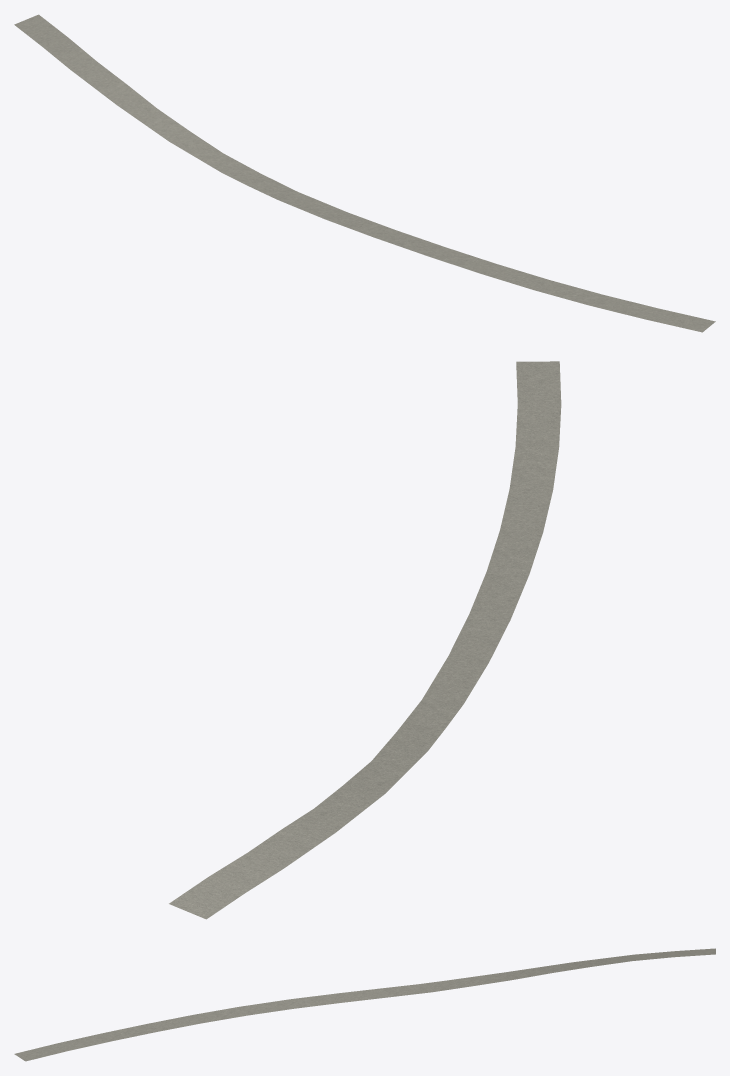
The model's file is path_07.gltf.
3 renders of one model, top to bottom at view 1: azimuth 30°, elevation 25°; view 2: azimuth 150°, elevation 25°; view 3: azimuth 270°, elevation 25°, orthographic. The views are drawn at different scales.
Visible parts, largest first — view 1: path_07.surface; view 2: path_07.surface; view 3: path_07.surface.
Part boxes in pixels (<box>): path_07.surface: <box>14,14,715,332</box>; path_07.surface: <box>169,361,561,919</box>; path_07.surface: <box>14,948,715,1061</box>.
Size of the model in its own units: 7.66 by 0.972 by 24.47.
1 material, 1 textured.
